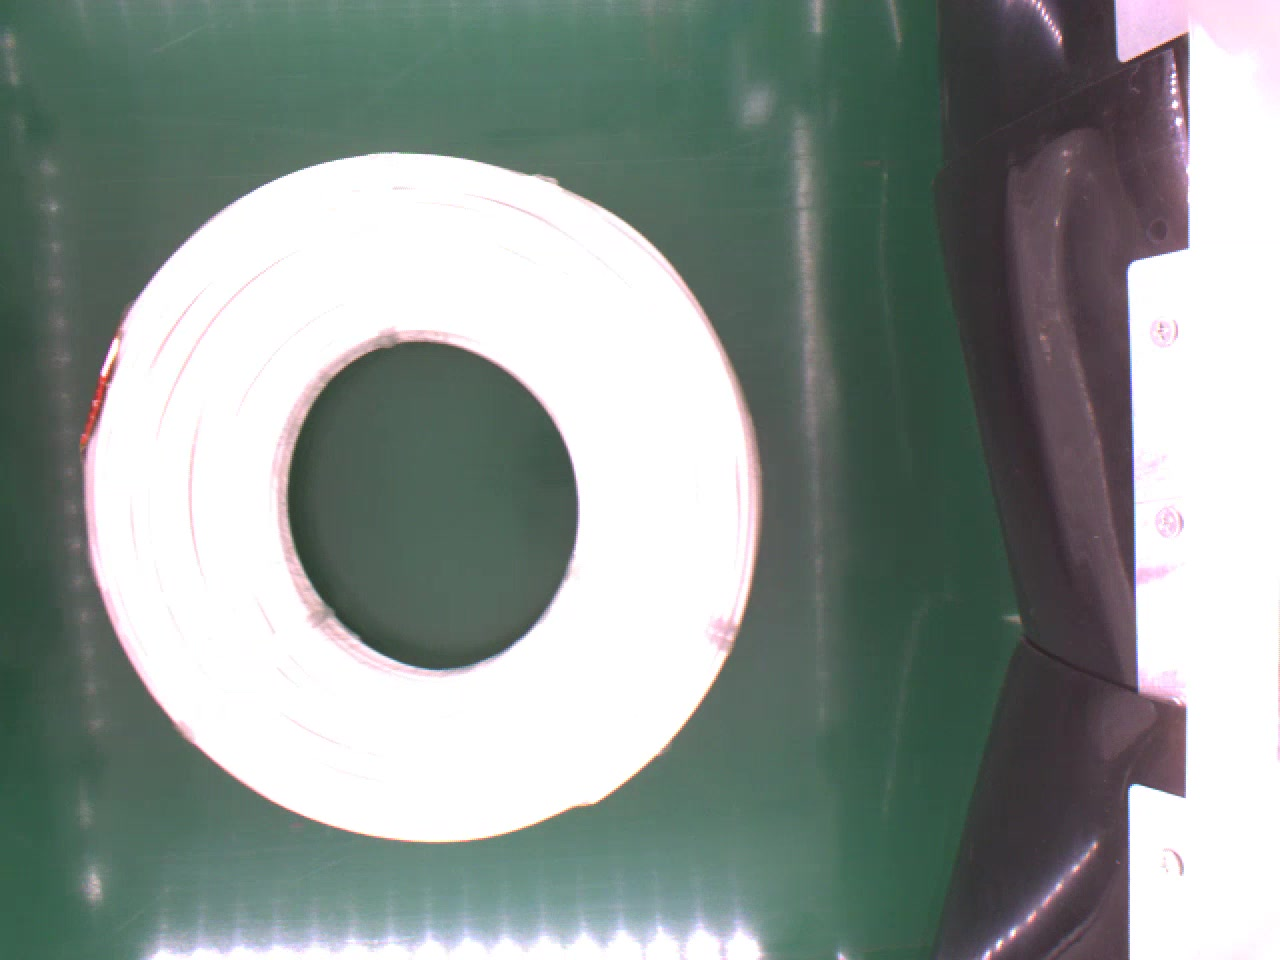white: (77, 142, 775, 848)
